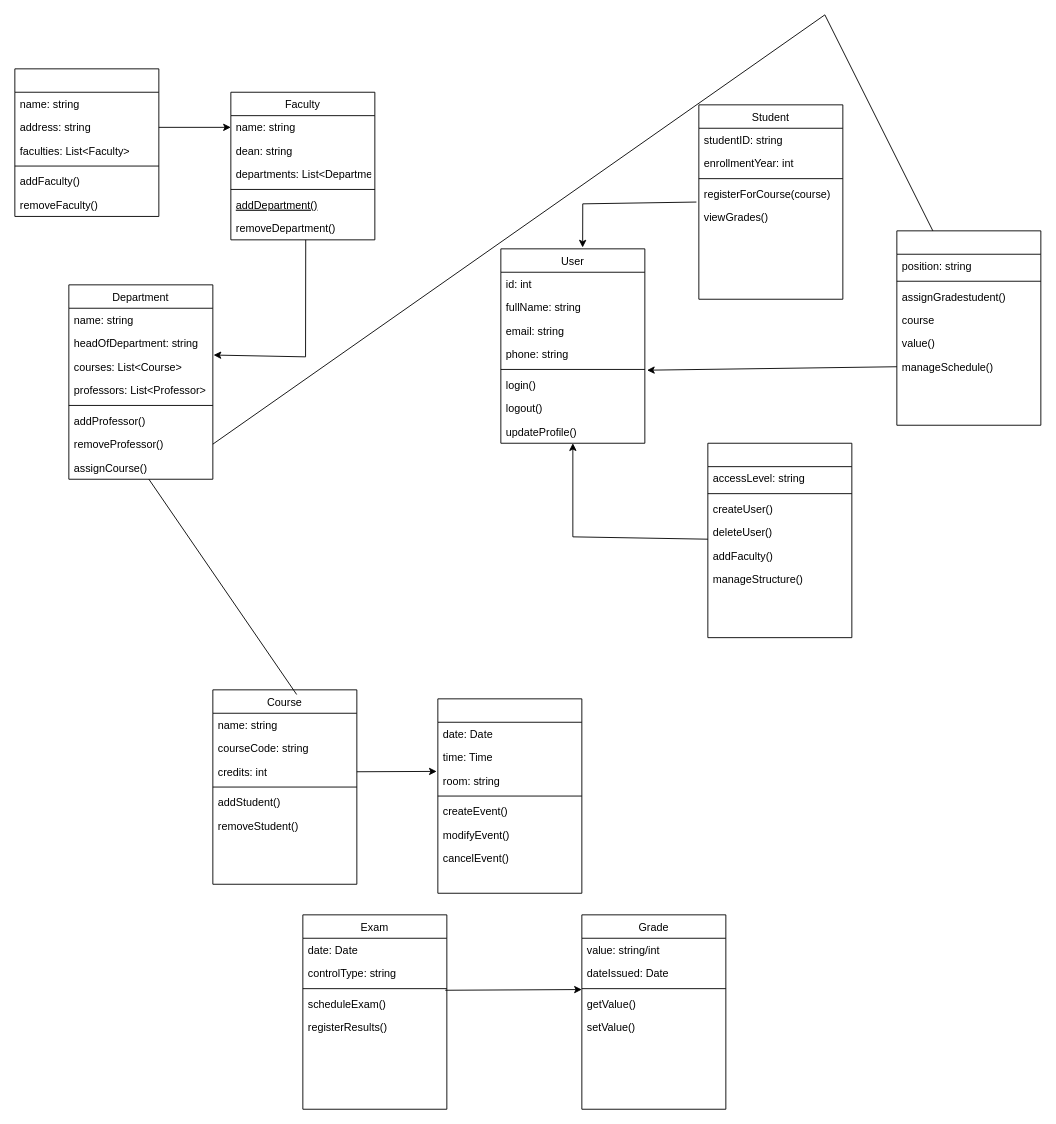
The diagram is 1056 pixels wide and 1124 high, and some of its shapes have lost their labels. Here are the shapes that lost their labels. From the top down, the box of each, then its label:
(14, 68, 159, 216): University
(896, 230, 1041, 425): Professor
(707, 442, 852, 638): Administrator
(437, 698, 582, 893): Schedule
